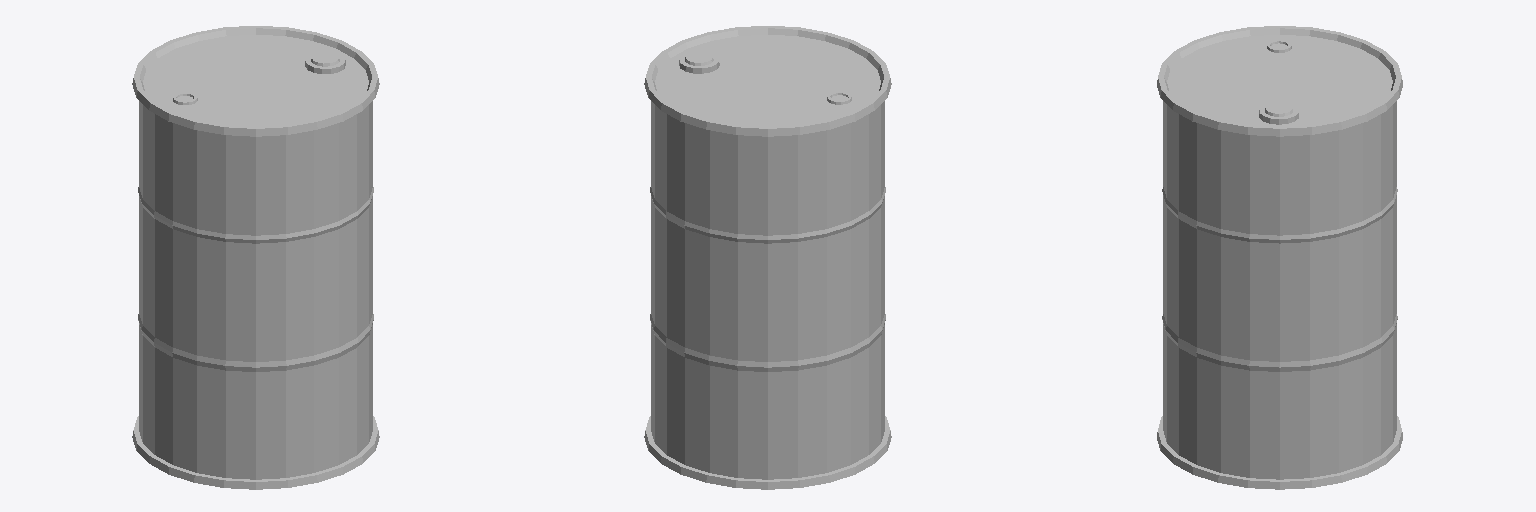
Rendered from Barrel.obj.
The picture shows the model from 3 angles: view 1: azimuth 30°, elevation 25°; view 2: azimuth 150°, elevation 25°; view 3: azimuth 270°, elevation 25°; orthographic projection.
Parts seen in each view (by area): view 1: Barrel_Circle.007; view 2: Barrel_Circle.007; view 3: Barrel_Circle.007.
Boxes of the visible parts, x1,y1,x2,y2 form: Barrel_Circle.007: [132, 26, 379, 489]; Barrel_Circle.007: [644, 26, 891, 489]; Barrel_Circle.007: [1157, 26, 1402, 489].
Size of the model in its own units: 0.5158 by 0.8377 by 0.5158.